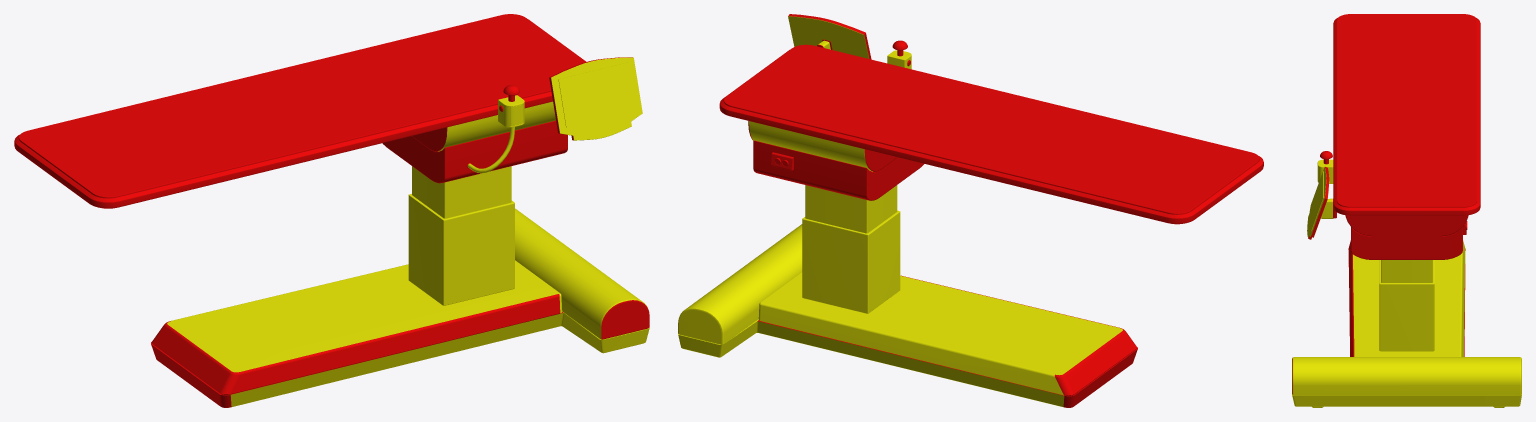
File: Equipment_7.fbx
3 renders of one model, left to right at view 1: azimuth 30°, elevation 25°; view 2: azimuth 150°, elevation 25°; view 3: azimuth 270°, elevation 25°, orthographic. The views are drawn at different scales.
Visible parts, largest first — view 1: L7:polySurface432; view 2: L7:polySurface432; view 3: L7:polySurface432.
Boxes of the visible parts, left/top/right/bottom form: L7:polySurface432: left=14, top=14, right=649, bottom=407; L7:polySurface432: left=678, top=14, right=1263, bottom=407; L7:polySurface432: left=1292, top=14, right=1521, bottom=407.
Bounding box in the file's own units: 265 × 135 × 128.
